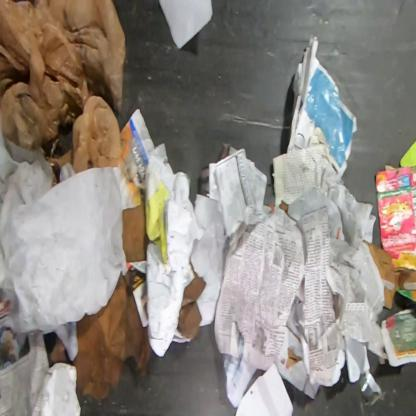cardboard: (374, 166, 415, 272), (364, 239, 415, 311)
soft_plastic: (0, 0, 127, 151), (71, 95, 122, 174)
